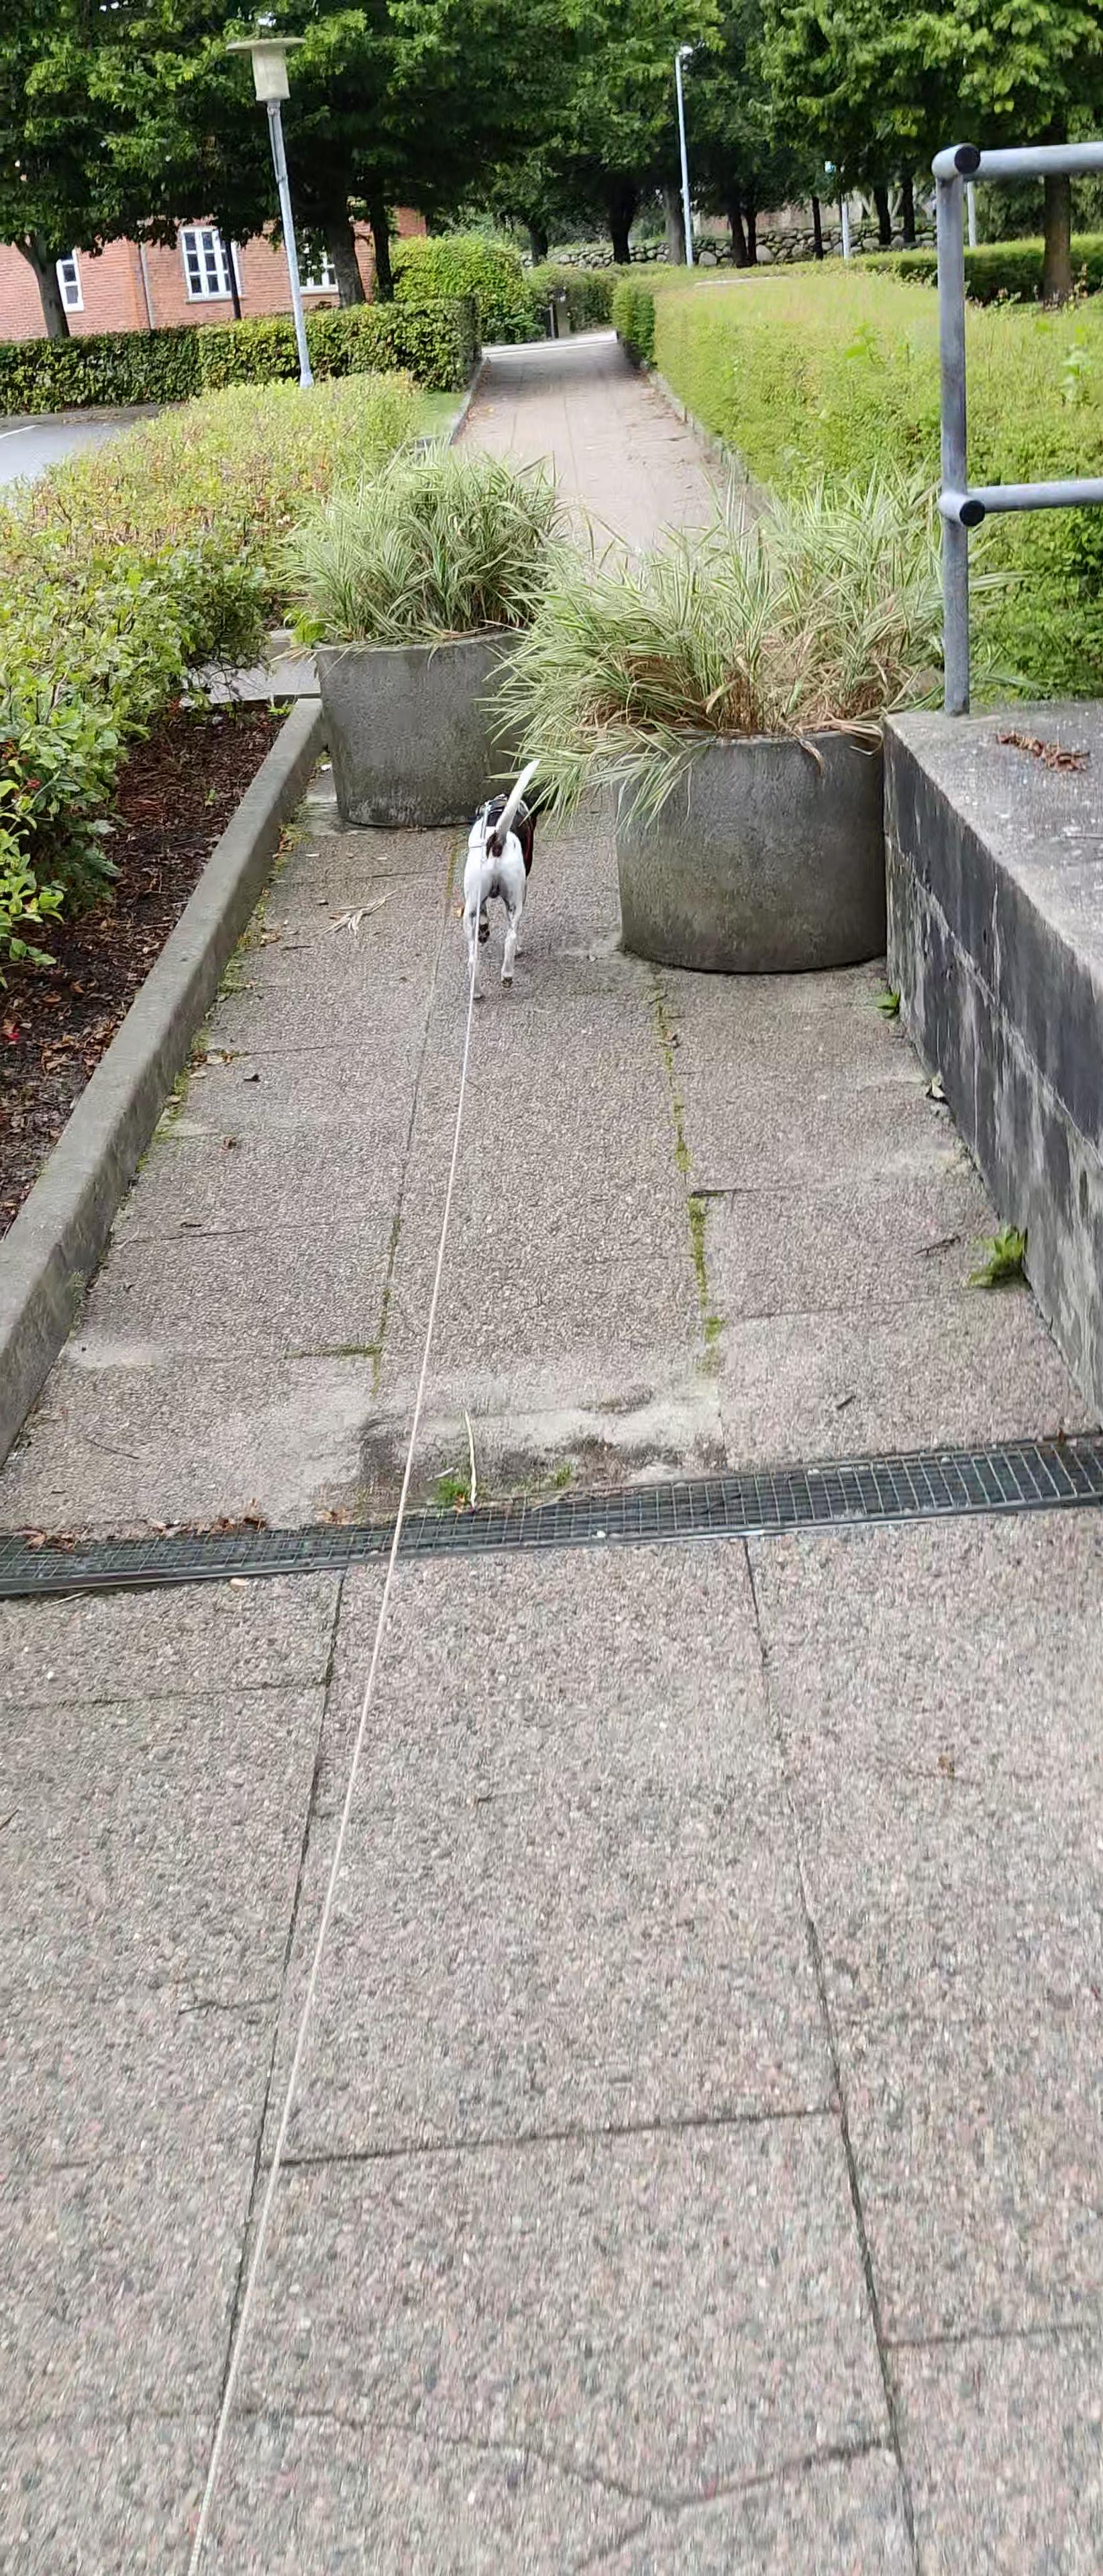Dog: (459, 754, 549, 1010)
